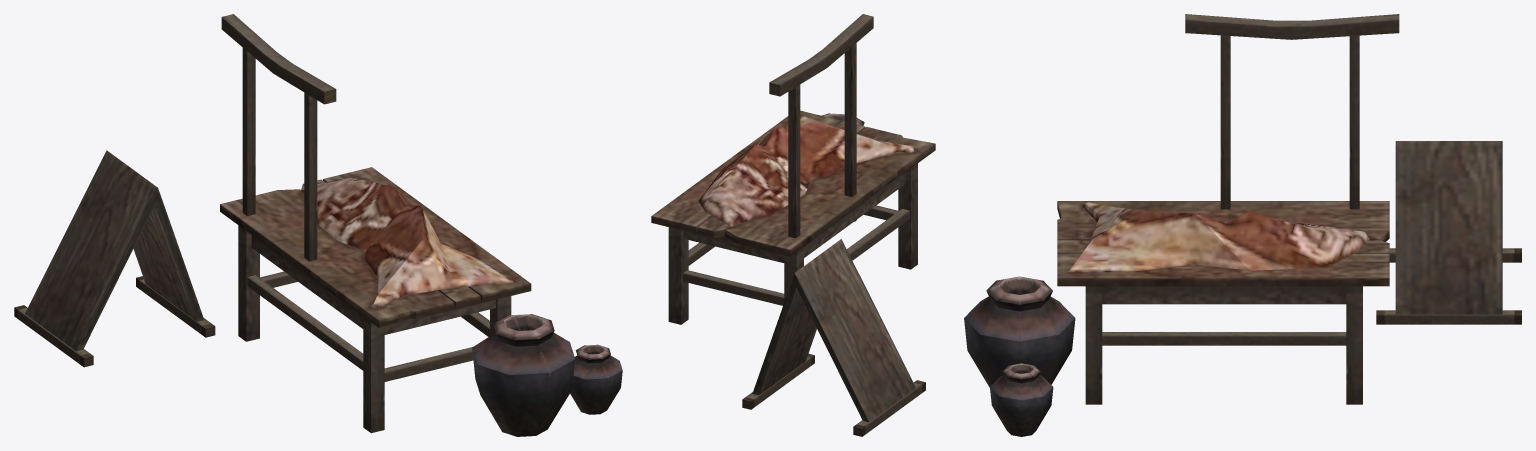
The model's file is meat_tent.obj.
3 renders of one model, left to right at view 1: azimuth 30°, elevation 25°; view 2: azimuth 150°, elevation 25°; view 3: azimuth 270°, elevation 25°, orthographic. The views are drawn at different scales.
Parts seen in each view (by area): view 1: meat_tent_b; view 2: meat_tent_b; view 3: meat_tent_b.
Boxes of the visible parts, bbox=[...] form: meat_tent_b: bbox=[14, 14, 622, 436]; meat_tent_b: bbox=[651, 14, 935, 436]; meat_tent_b: bbox=[964, 14, 1521, 436].
Bounding box in the file's own units: 2.26 × 1.81 × 2.87.
Materials: 1 (1 with a texture image).
